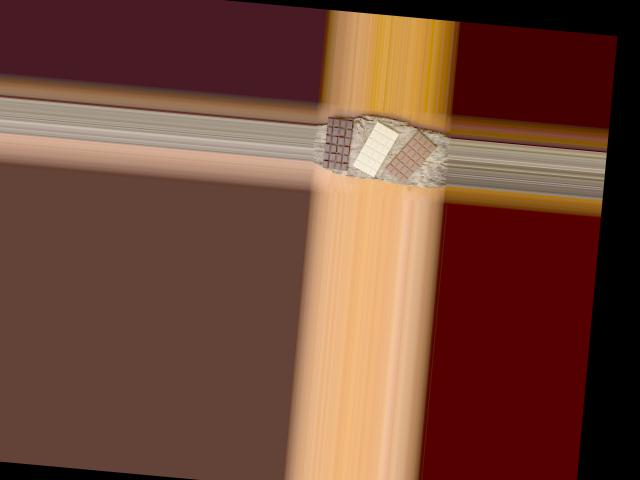chocolate: (321, 116, 353, 171)
